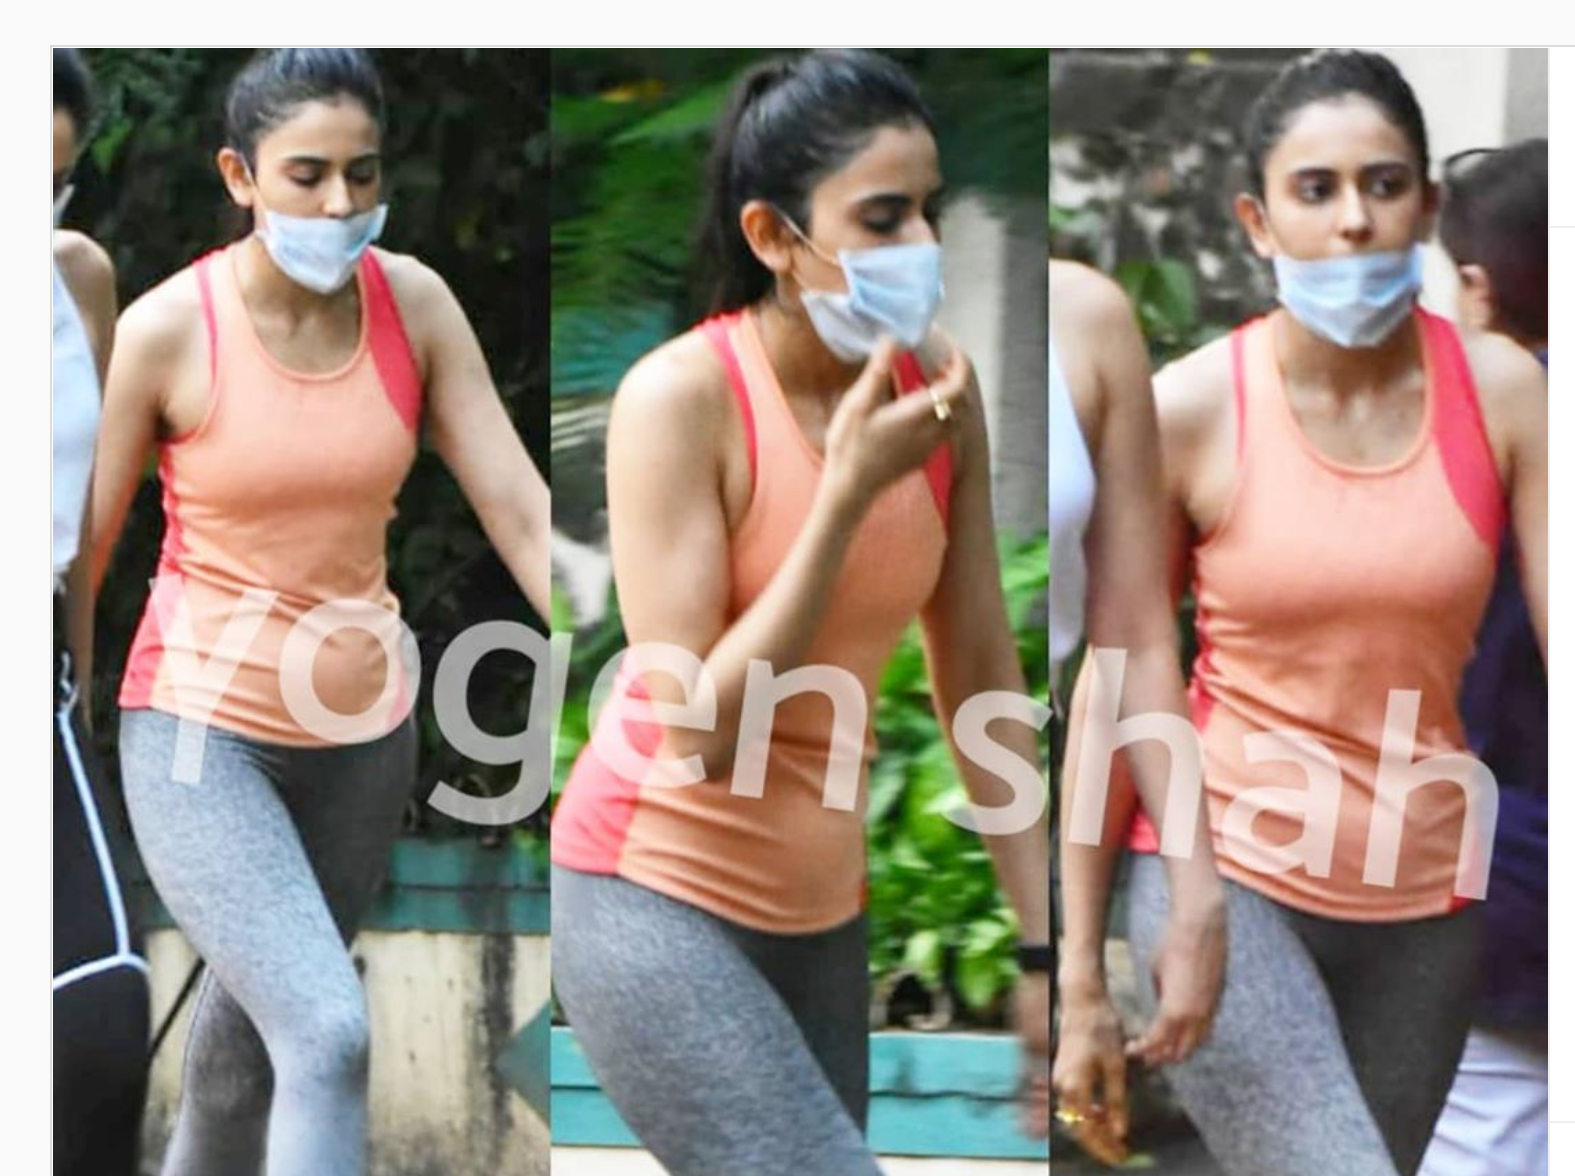mask_weared_incorrect: (1235, 121, 1452, 354), (210, 103, 396, 299)
